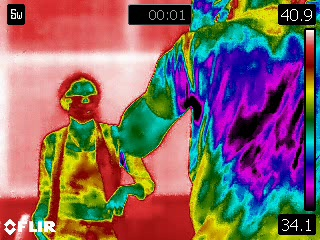human: (125, 1, 320, 240), (31, 70, 157, 240)
